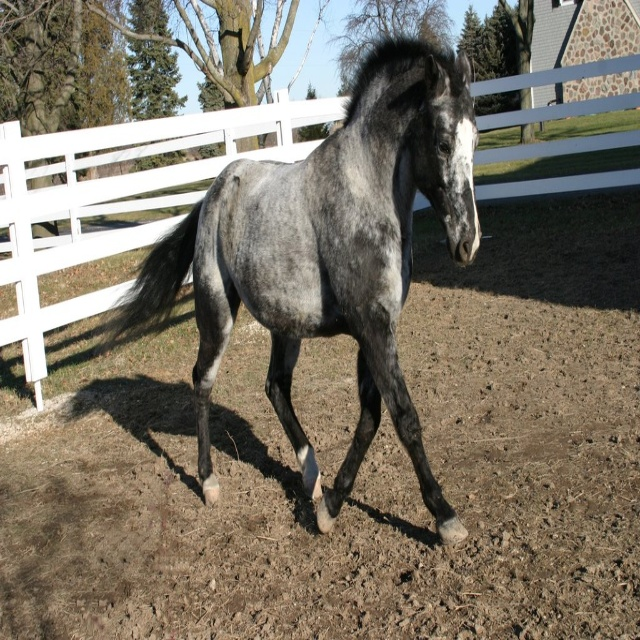Horse: (93, 23, 484, 544)
